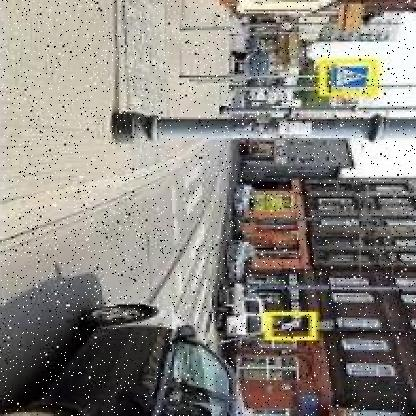Pedestrian Crossing: (331, 66, 367, 89)
